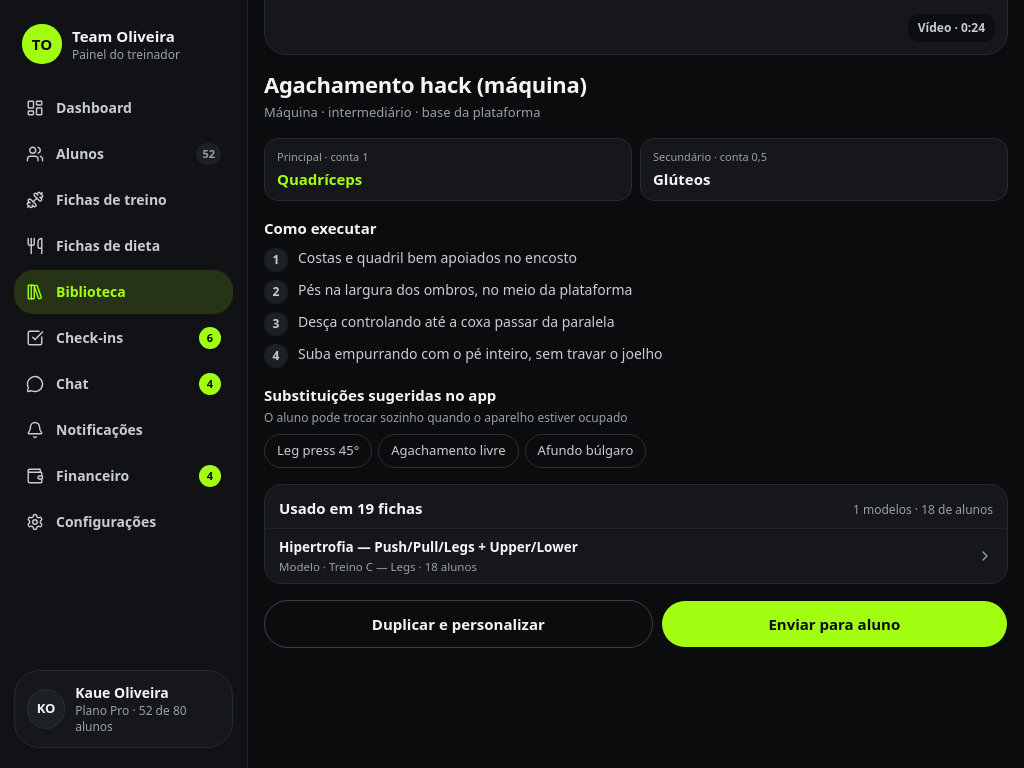
Test: Biblioteca (celular) › detalhe: passo a passo, substituições e fichas que usam; enviar para o aluno
(page scrolled)
Expected: the heading "Agachamento hack (máquina)" is shown, 264,69 -> 587,99
Expected: the list item "Costas e quadril bem apoiados no encosto" is shown, 298,248 -> 577,266
Click the button "Enviar para aluno" at (834, 624), box 661,600 -> 1008,648
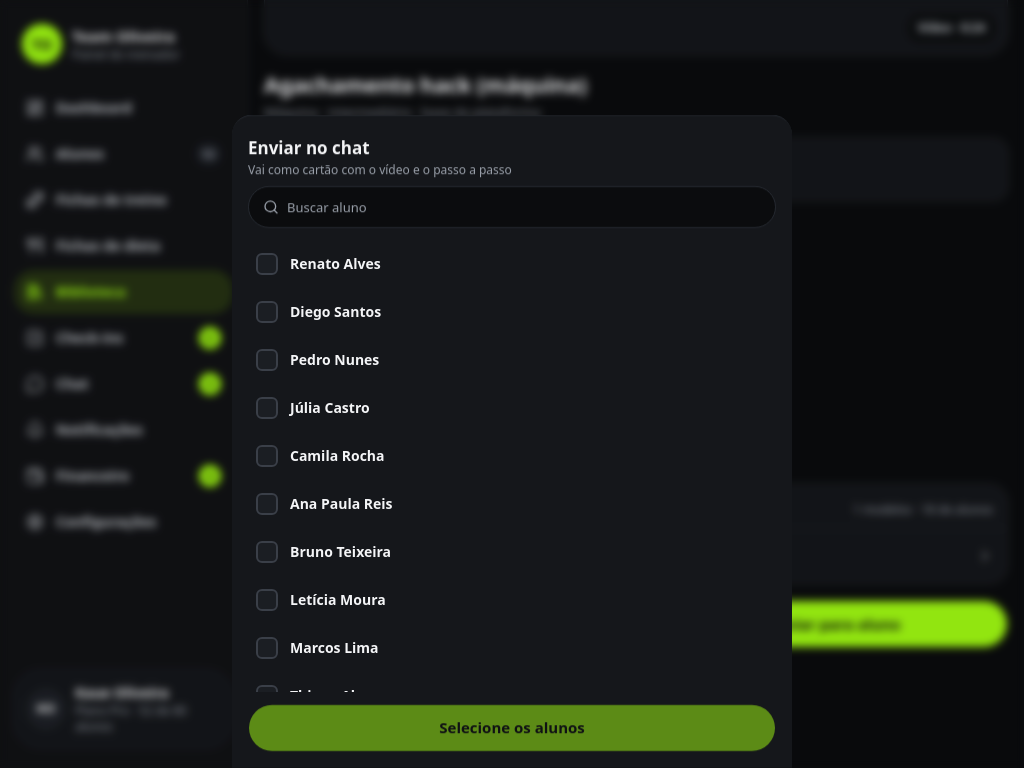
Type "renato" into the search field labelled "Buscar aluno" at (524, 208), box 287,198 -> 761,217
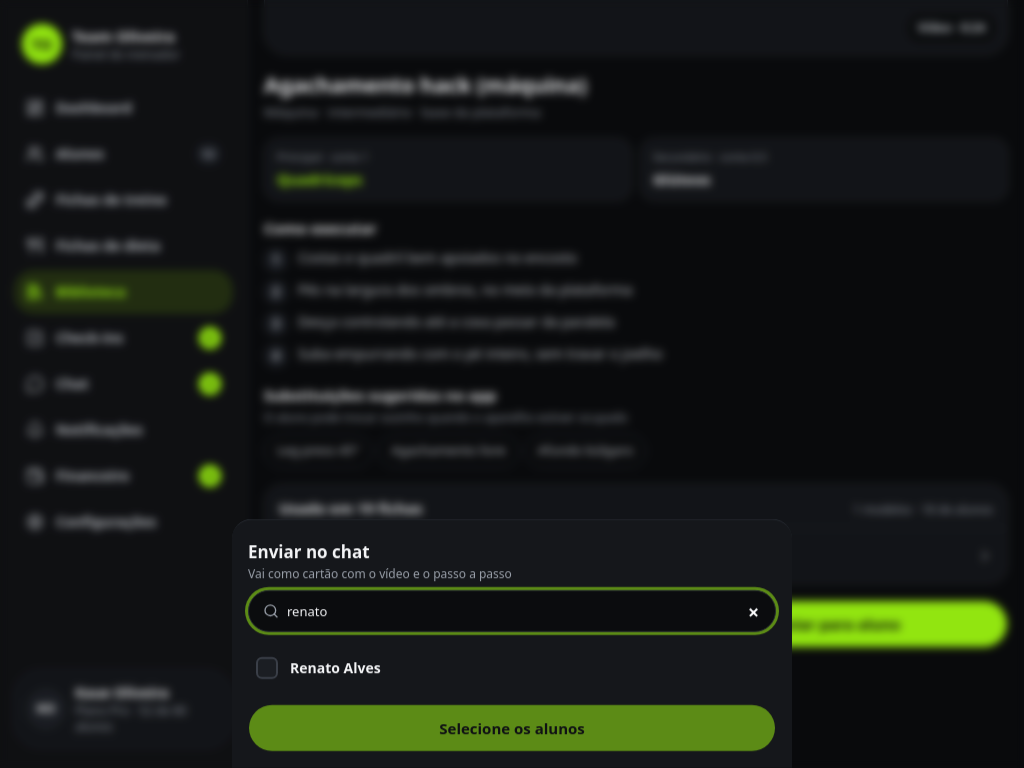
Click the checkbox named "Renato Alves" at (267, 668), box 256,657 -> 278,679
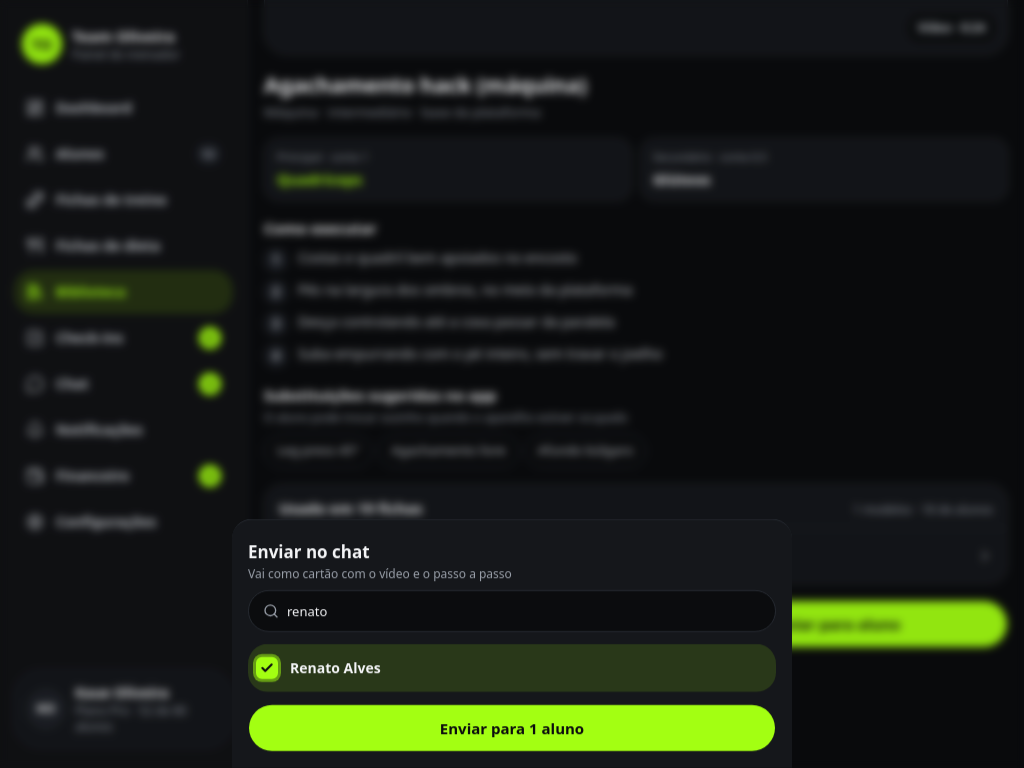
Click the button "Enviar para 1 aluno" at (512, 728), box 248,704 -> 776,752
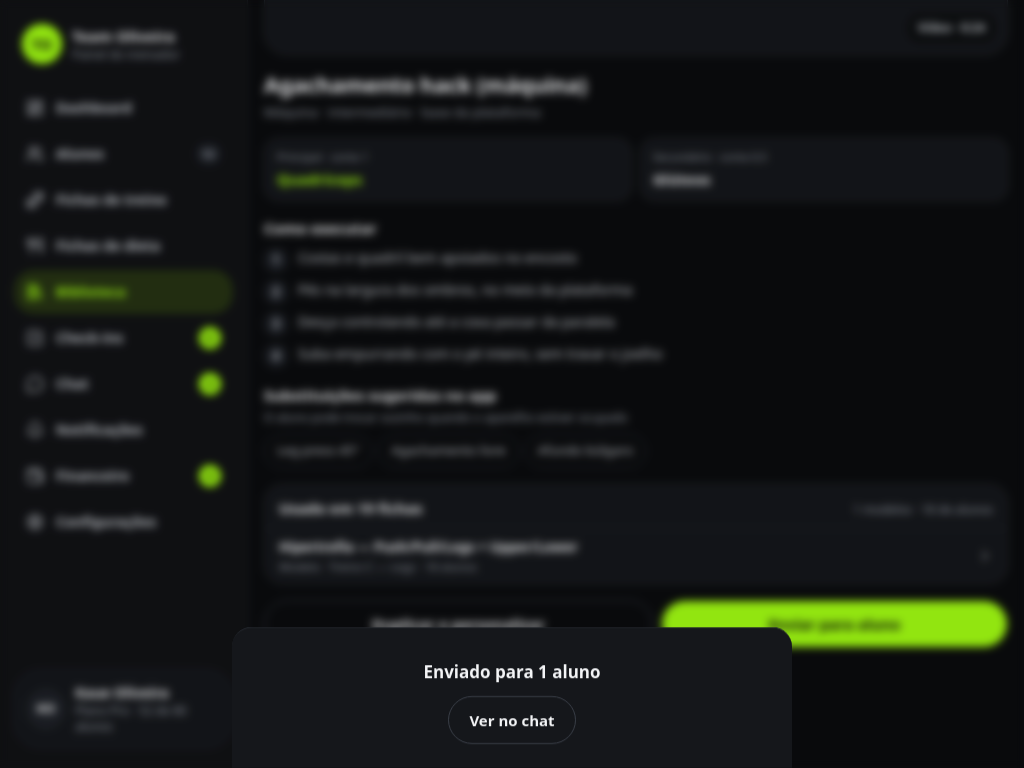
Result: the heading "Enviado para 1 aluno" is shown at 424,660 -> 601,684
